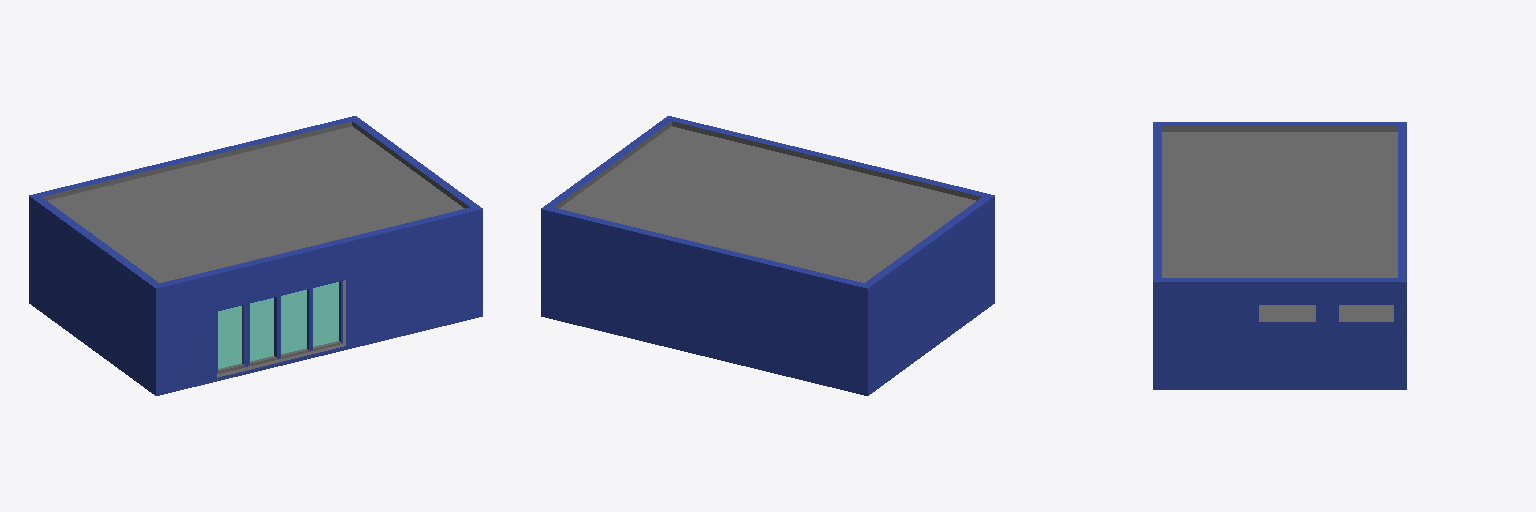
File: shop.obj
The picture shows the model from 3 angles: view 1: azimuth 30°, elevation 25°; view 2: azimuth 150°, elevation 25°; view 3: azimuth 270°, elevation 25°; orthographic projection.
Visible parts, largest first — view 1: Cubo; view 2: Cubo; view 3: Cubo.
Part boxes in pixels (x1,y1,x2,y2): Cubo: (29, 116, 482, 395); Cubo: (541, 116, 994, 395); Cubo: (1153, 122, 1406, 389).
Bounding box in the file's own units: 10.77 × 3.38 × 7.27.